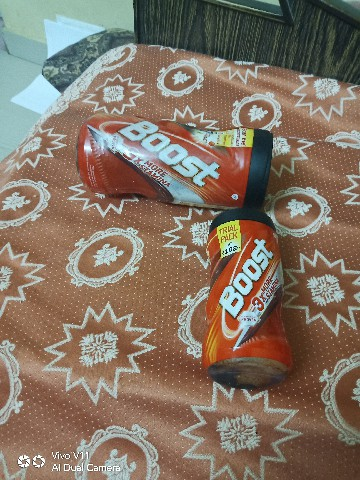boost big: (35, 108, 292, 204)
boost small: (188, 209, 294, 392)
